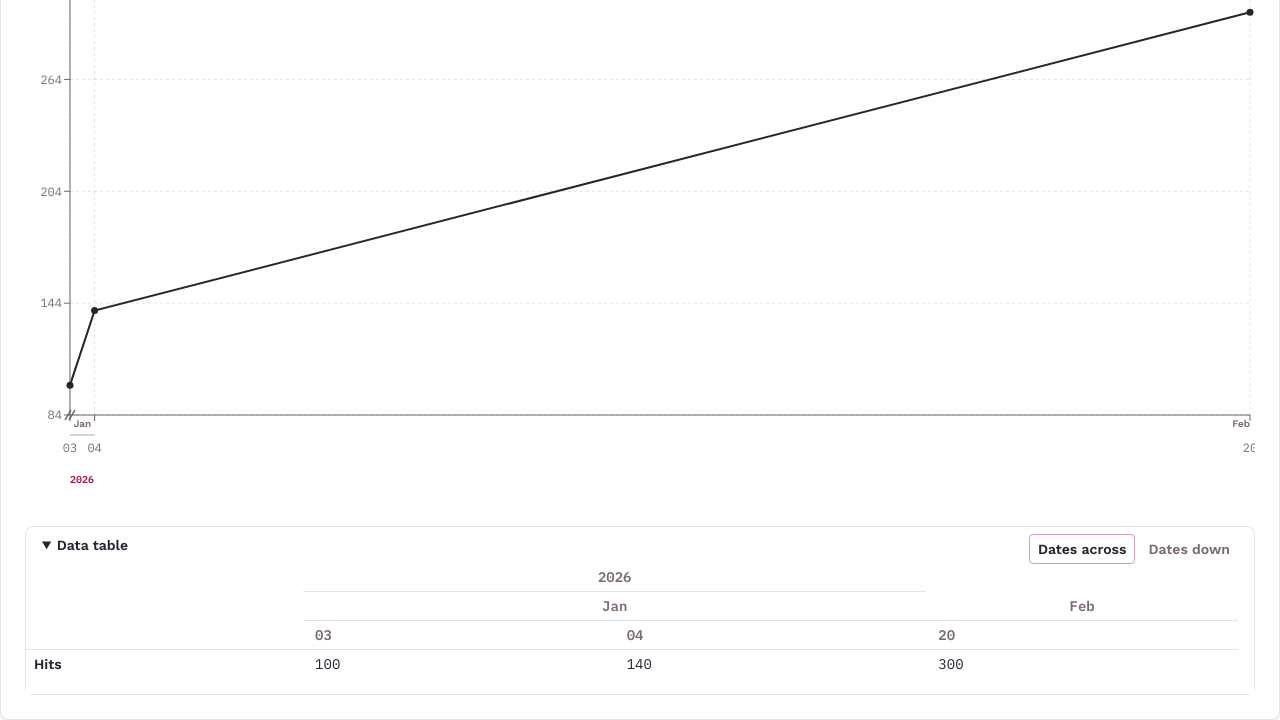
Test case: TrendChart: pin via table header (§3 item 3, D5) › clears the pin (bar disappears) when the same header's control is activated again
The width and height of the screenshot is (1280, 720).
(page scrolled)
Click the button "04".
click(635, 635)  # box [627,625,644,645]
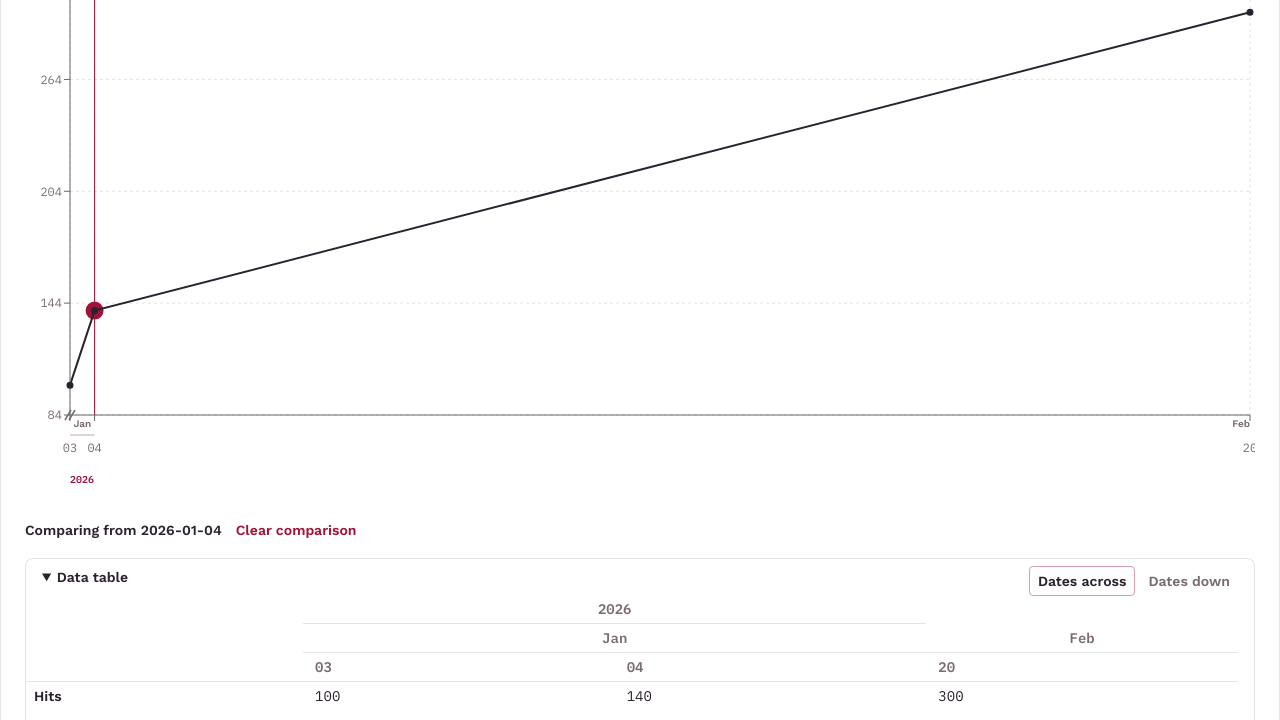
Result: the text "Comparing from 2026-01-04" is shown at [25,520,222,540]
Click the button "04".
click(635, 667)  # box [627,657,644,677]
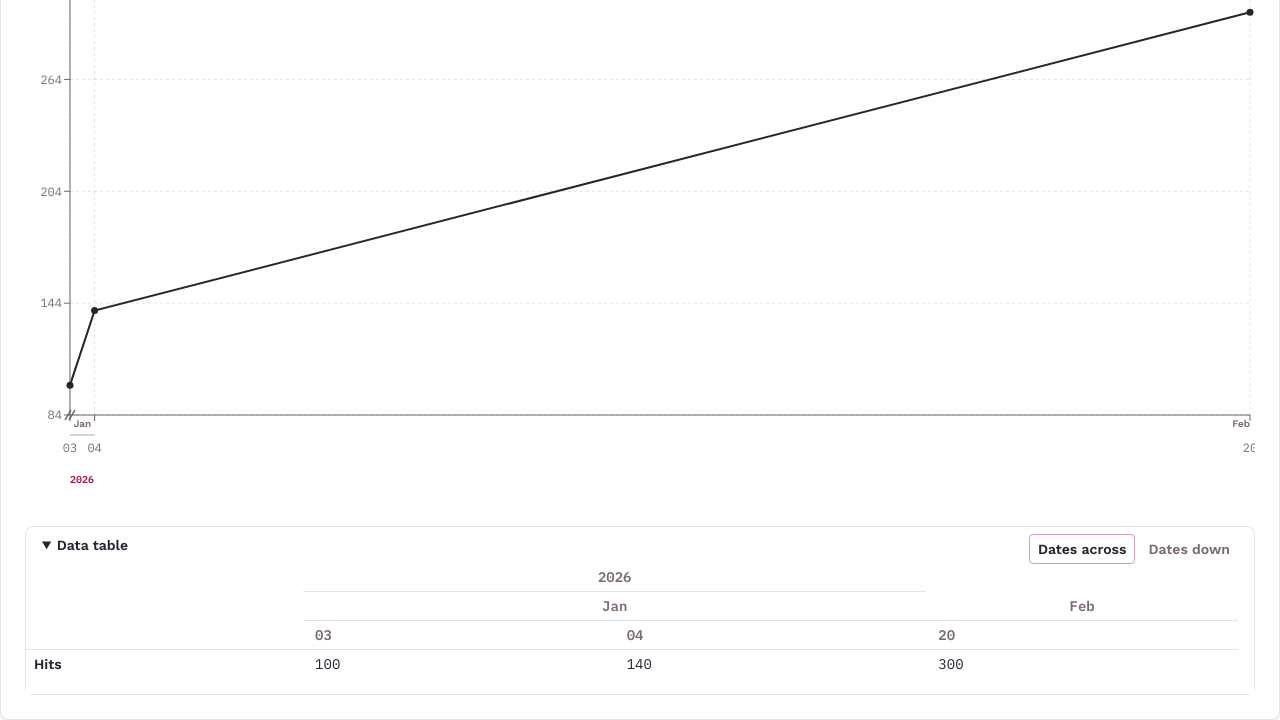
Result: the text "Comparing from" is gone
